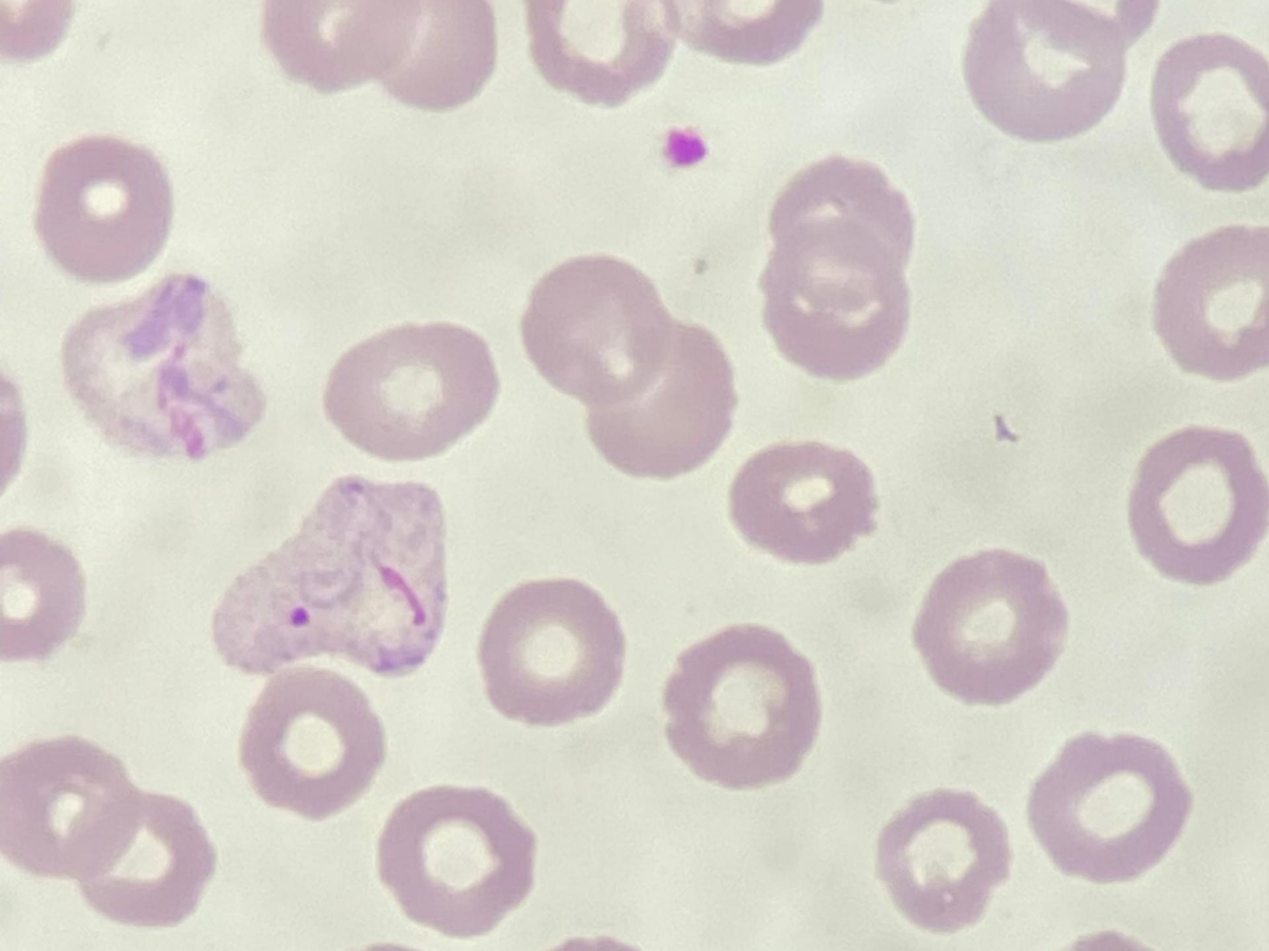Infected: (215, 473, 449, 675), (61, 273, 266, 461)
Uninfected: (909, 547, 1067, 711), (666, 623, 822, 786), (1029, 731, 1190, 885), (377, 785, 535, 940), (322, 326, 499, 464), (758, 222, 910, 382), (958, 0, 1127, 141), (585, 323, 733, 481), (1127, 425, 1269, 588), (524, 253, 672, 408), (478, 574, 625, 724), (770, 156, 914, 306), (240, 669, 383, 820), (0, 734, 146, 881), (33, 137, 173, 289), (876, 788, 1013, 934), (1150, 223, 1269, 383), (1147, 35, 1269, 190), (730, 440, 878, 565), (74, 793, 213, 925), (251, 0, 416, 95), (525, 0, 671, 107), (364, 0, 494, 112), (0, 531, 85, 663)
